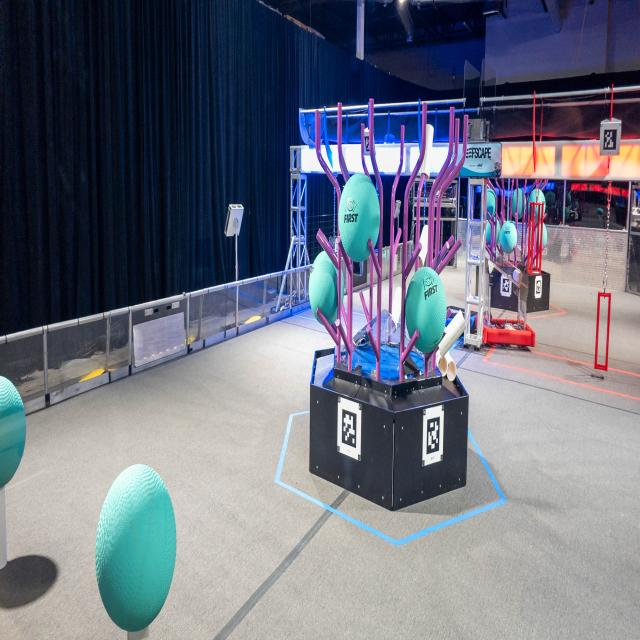Algae: (96, 464, 177, 630), (339, 173, 380, 262), (405, 267, 447, 353), (0, 375, 26, 490), (309, 250, 345, 326), (528, 188, 545, 222), (500, 221, 517, 254), (530, 223, 547, 253), (511, 188, 526, 220), (486, 217, 500, 247), (484, 189, 497, 220)
Coral: (438, 310, 466, 360), (420, 124, 434, 180), (392, 287, 402, 333), (418, 225, 428, 268)
